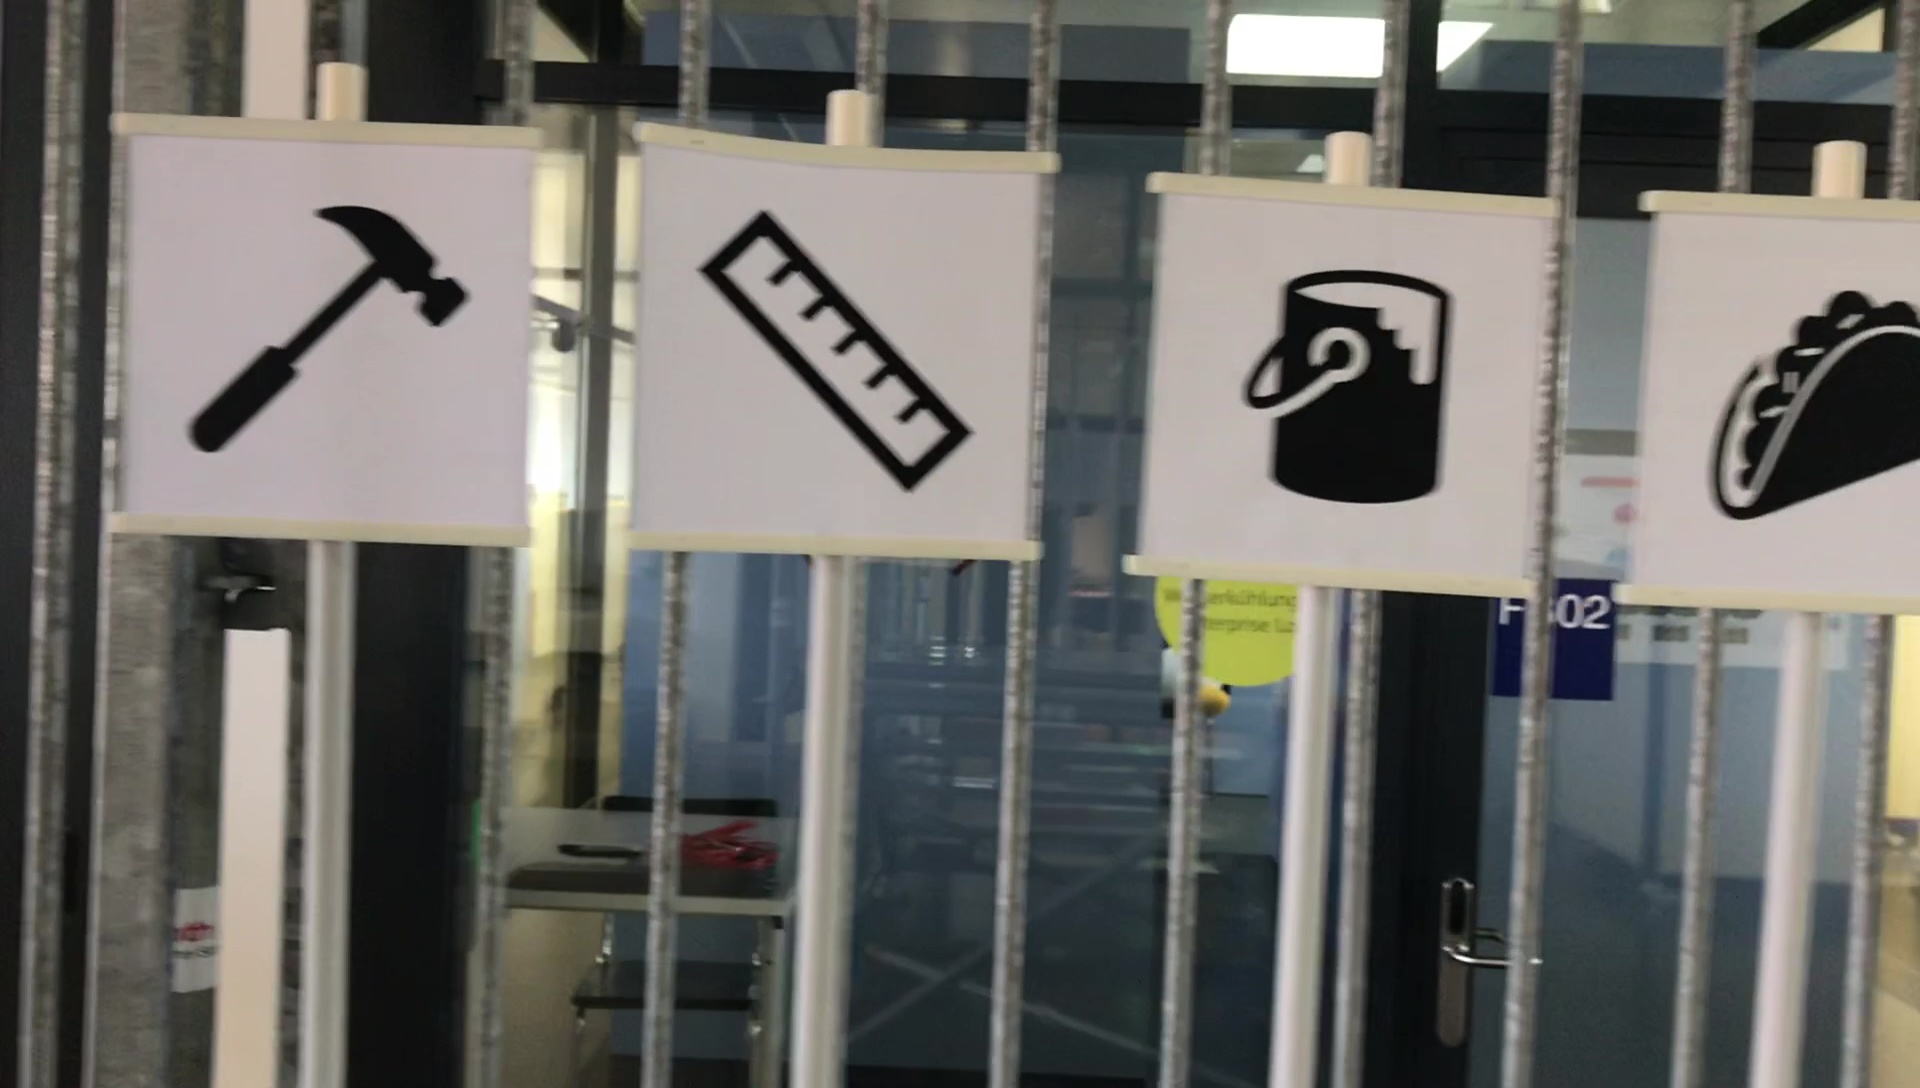bucket: (1230, 255, 1461, 516)
hammer: (189, 193, 481, 462)
ruler: (692, 202, 986, 497)
taco: (1700, 270, 1920, 535)
